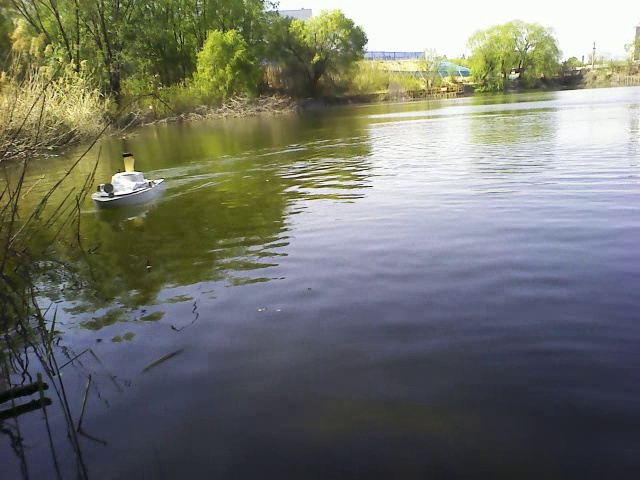boat: (90, 162, 171, 213)
